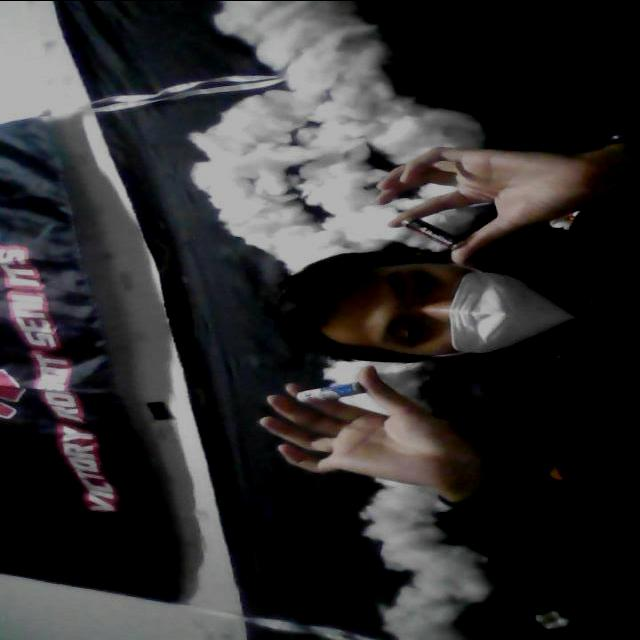AA: (392, 210, 482, 250), (274, 378, 386, 407)
